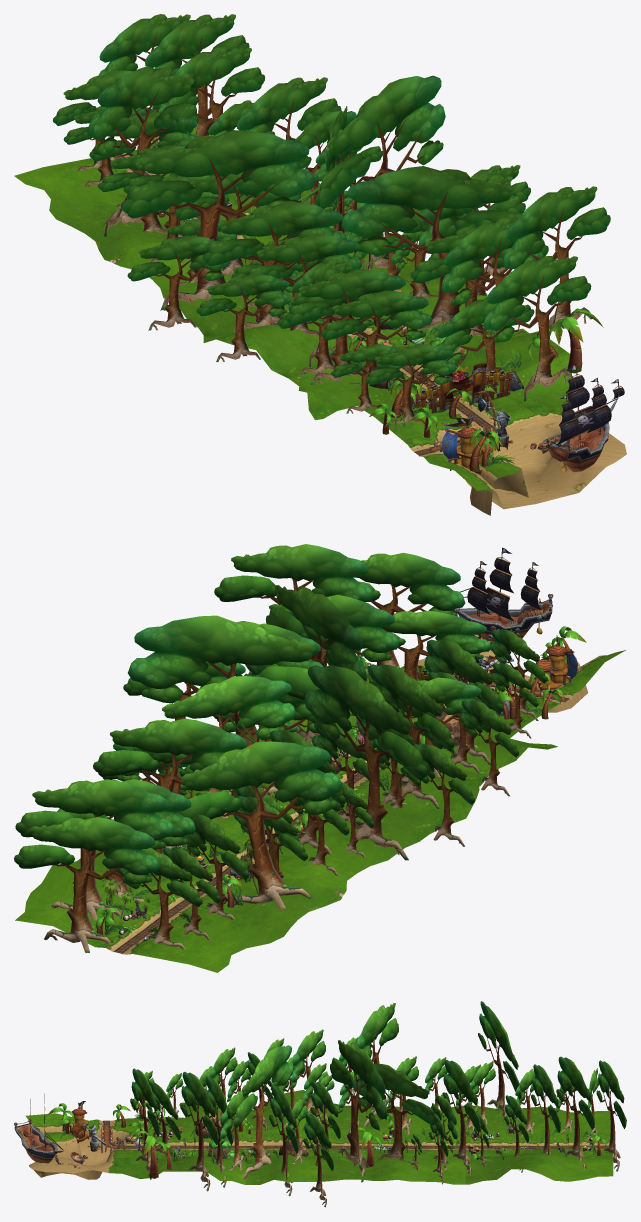
The model's file is pirate Island.fbx.
3 views of the same model, one above another, from view 1: azimuth 30°, elevation 25°; view 2: azimuth 150°, elevation 25°; view 3: azimuth 270°, elevation 25° (orthographic). The views are drawn at different scales.
Parts seen in each view (by area): view 1: hw_zhidao210_peijing_05_hw_peijing_01_0, hw_zhidao210_peijing_03_hw_peijing_01_0, hw_zhidao210_peijing_01_hw_peijing_01_0, hw_wandaoyou_peijing_01_hw_peijing_01_0, hw_wandaoyou_dimian_01_hw_dixing_02_0, hw_zhidao210_dimian_03_hw_dixing_02_0, hw_zhidao210_dimian_01_hw_dixing_02_0, hw_zhidao210_dimian_02_hw_dixing_02_0, hw_wandaoyou_peijing_02_hw_peijing_02_0; view 2: hw_zhidao210_peijing_03_hw_peijing_01_0, hw_zhidao210_peijing_01_hw_peijing_01_0, hw_zhidao210_peijing_05_hw_peijing_01_0, hw_wandaoyou_peijing_01_hw_peijing_01_0, hw_zhidao210_dimian_01_hw_dixing_02_0, hw_zhidao210_dimian_02_hw_dixing_02_0, hw_zhidao210_dimian_03_hw_dixing_02_0, hw_wandaoyou_dimian_01_hw_dixing_02_0, hw_wandaoyou_peijing_02_hw_peijing_02_0, hw_zhidao210_daolu_01_hw_dixing_0, hw_zhidao210_peijing_06_hw_peijing_02_0; view 3: hw_zhidao210_peijing_03_hw_peijing_01_0, hw_zhidao210_peijing_05_hw_peijing_01_0, hw_zhidao210_peijing_01_hw_peijing_01_0, hw_zhidao210_dimian_01_hw_dixing_02_0, hw_zhidao210_dimian_02_hw_dixing_02_0, hw_zhidao210_dimian_03_hw_dixing_02_0, hw_wandaoyou_peijing_01_hw_peijing_01_0, hw_wandaoyou_dimian_01_hw_dixing_02_0, hw_wandaoyou_peijing_02_hw_peijing_02_0, hw_zhidao210_peijing_06_hw_peijing_02_0, hw_zhidao210_daolu_01_hw_dixing_0, hw_wandaoyou_daolu_01_hw_dixing_0.
Part boxes in pixels (bbox=[...]): hw_zhidao210_peijing_05_hw_peijing_01_0: bbox=[196, 166, 610, 413]; hw_zhidao210_peijing_03_hw_peijing_01_0: bbox=[121, 75, 530, 330]; hw_zhidao210_peijing_01_hw_peijing_01_0: bbox=[53, 14, 275, 238]; hw_wandaoyou_peijing_01_hw_peijing_01_0: bbox=[365, 256, 624, 472]; hw_wandaoyou_dimian_01_hw_dixing_02_0: bbox=[370, 351, 626, 515]; hw_zhidao210_dimian_03_hw_dixing_02_0: bbox=[205, 283, 566, 419]; hw_zhidao210_dimian_01_hw_dixing_02_0: bbox=[14, 126, 320, 260]; hw_zhidao210_dimian_02_hw_dixing_02_0: bbox=[109, 202, 439, 342]; hw_wandaoyou_peijing_02_hw_peijing_02_0: bbox=[434, 384, 513, 474]; hw_zhidao210_peijing_03_hw_peijing_01_0: bbox=[93, 615, 474, 876]; hw_zhidao210_peijing_01_hw_peijing_01_0: bbox=[14, 741, 342, 952]; hw_zhidao210_peijing_05_hw_peijing_01_0: bbox=[214, 544, 538, 808]; hw_wandaoyou_peijing_01_hw_peijing_01_0: bbox=[353, 547, 586, 720]; hw_zhidao210_dimian_01_hw_dixing_02_0: bbox=[15, 850, 341, 972]; hw_zhidao210_dimian_02_hw_dixing_02_0: bbox=[162, 783, 465, 896]; hw_zhidao210_dimian_03_hw_dixing_02_0: bbox=[259, 710, 557, 818]; hw_wandaoyou_dimian_01_hw_dixing_02_0: bbox=[367, 634, 625, 728]; hw_wandaoyou_peijing_02_hw_peijing_02_0: bbox=[458, 635, 577, 697]; hw_zhidao210_daolu_01_hw_dixing_0: bbox=[114, 872, 229, 953]; hw_zhidao210_peijing_06_hw_peijing_02_0: bbox=[310, 714, 460, 774]; hw_zhidao210_peijing_03_hw_peijing_01_0: bbox=[303, 1003, 480, 1207]; hw_zhidao210_peijing_05_hw_peijing_01_0: bbox=[166, 1029, 328, 1196]; hw_zhidao210_peijing_01_hw_peijing_01_0: bbox=[455, 1001, 626, 1172]; hw_zhidao210_dimian_01_hw_dixing_02_0: bbox=[465, 1105, 613, 1184]; hw_zhidao210_dimian_02_hw_dixing_02_0: bbox=[317, 1103, 465, 1184]; hw_zhidao210_dimian_03_hw_dixing_02_0: bbox=[169, 1090, 317, 1184]; hw_wandaoyou_peijing_01_hw_peijing_01_0: bbox=[14, 1068, 180, 1179]; hw_wandaoyou_dimian_01_hw_dixing_02_0: bbox=[25, 1113, 169, 1179]; hw_wandaoyou_peijing_02_hw_peijing_02_0: bbox=[65, 1101, 169, 1152]; hw_zhidao210_peijing_06_hw_peijing_02_0: bbox=[195, 1113, 308, 1158]; hw_zhidao210_daolu_01_hw_dixing_0: bbox=[466, 1145, 608, 1148]; hw_wandaoyou_daolu_01_hw_dixing_0: bbox=[102, 1120, 160, 1148].
Size of the model in its own units: 10444 by 5866 by 21795.
14 materials, 14 textured.
